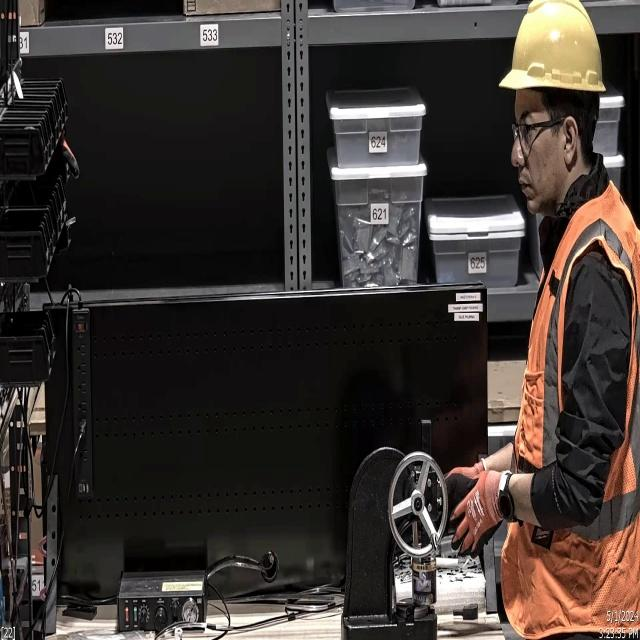construction-gloves: (448, 466, 504, 554)
